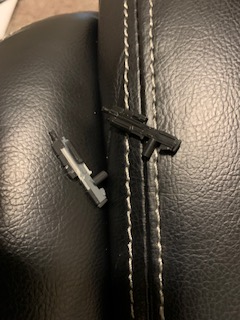rifle: (91, 101, 185, 162), (45, 128, 110, 209)
